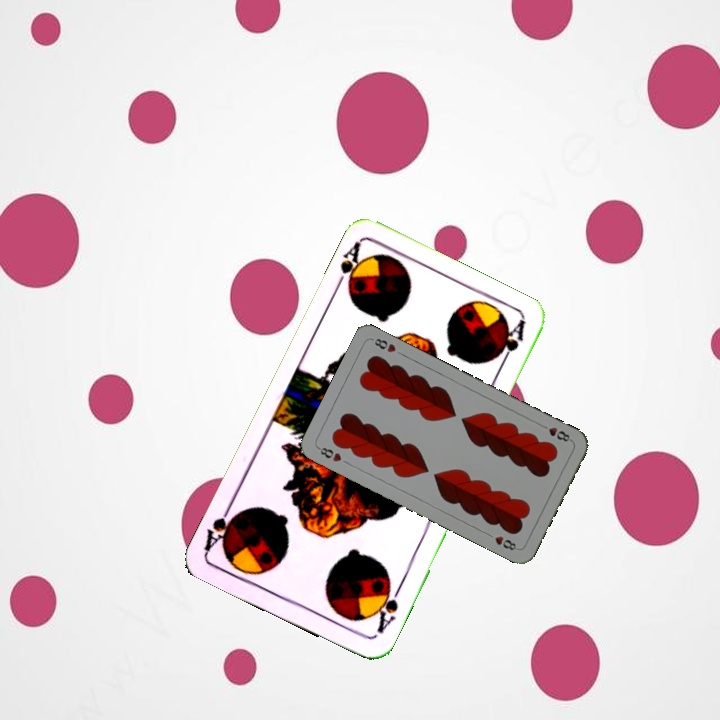H8: (537, 420, 574, 444), (314, 443, 344, 464)
SA: (330, 238, 370, 298), (369, 579, 403, 639)
